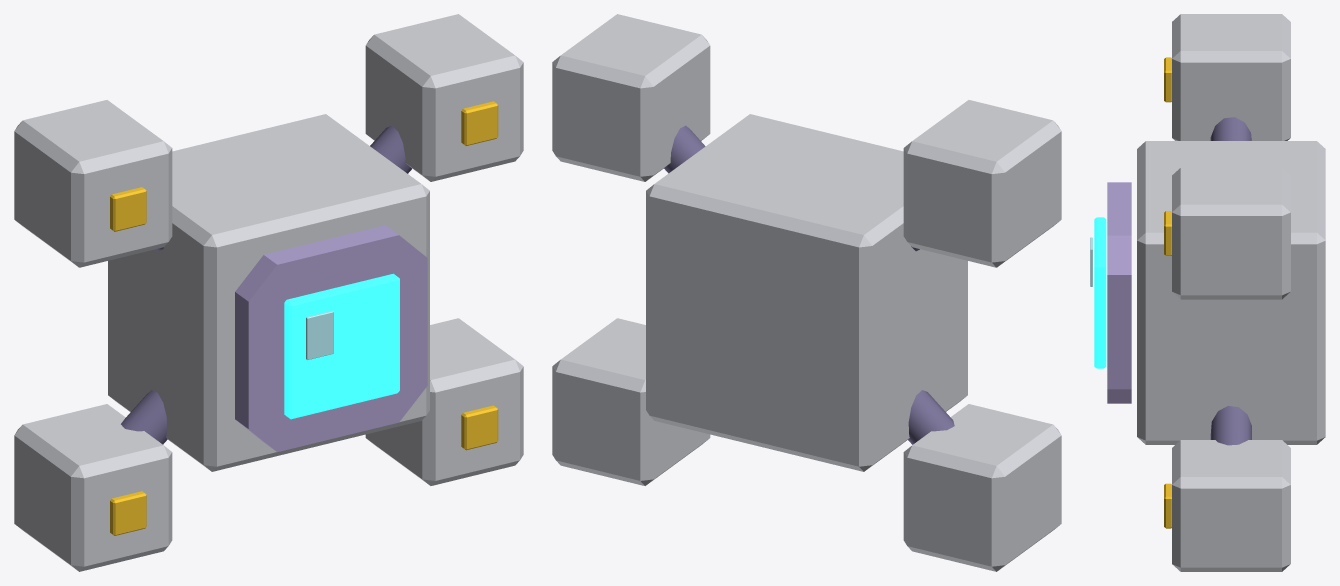
Rendered from Future_Drone_v001.fbx.
3 renders of one model, left to right at view 1: azimuth 30°, elevation 25°; view 2: azimuth 150°, elevation 25°; view 3: azimuth 270°, elevation 25°, orthographic. The views are drawn at different scales.
Visible parts, largest first — view 1: Future_Drone__RECEIVER_MESH; view 2: Future_Drone__RECEIVER_MESH; view 3: Future_Drone__RECEIVER_MESH.
Boxes of the visible parts, box(x1,y1,x2,y2) form: Future_Drone__RECEIVER_MESH: box(14, 14, 523, 571); Future_Drone__RECEIVER_MESH: box(552, 14, 1061, 571); Future_Drone__RECEIVER_MESH: box(1090, 14, 1325, 571).
Bounding box in the file's own units: 1.34 × 1.16 × 0.674.
